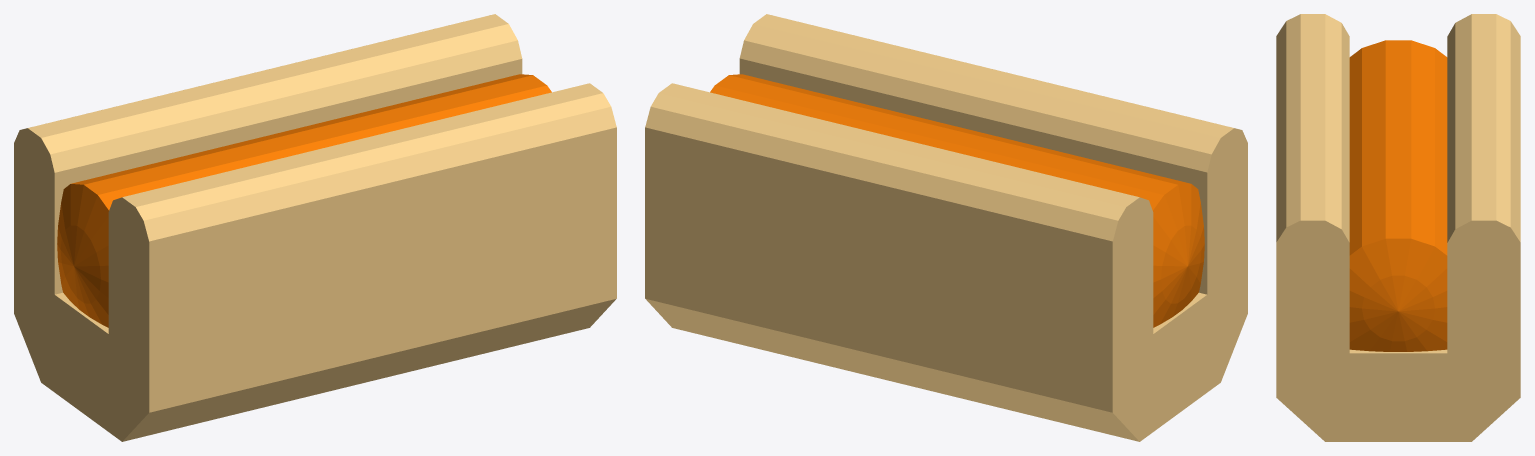
The model's file is HotDog.FBX.
3 views of the same model, side by side, from view 1: azimuth 30°, elevation 25°; view 2: azimuth 150°, elevation 25°; view 3: azimuth 270°, elevation 25° (orthographic). The views are drawn at different scales.
Visible parts, largest first — view 1: Box001; view 2: Box001; view 3: Box001.
Part boxes in pixels (x1,y1,x2,y2): Box001: [14, 14, 616, 441]; Box001: [645, 14, 1247, 441]; Box001: [1276, 14, 1520, 441].
Size of the model in its own units: 103 by 50 by 50.
1 material, 1 textured.
